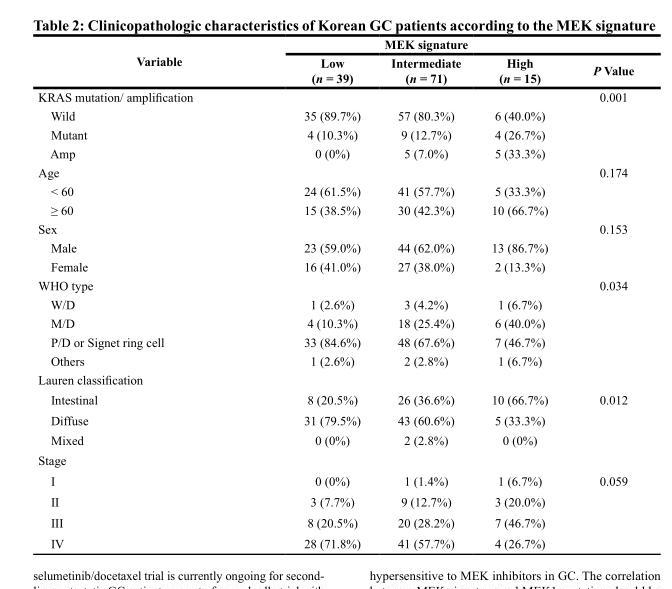table: (37, 36, 633, 550)
table column: (37, 36, 247, 550), (247, 36, 375, 550), (375, 36, 475, 550), (475, 36, 569, 550), (569, 36, 633, 550)
table column header: (37, 36, 633, 87)
table projected row header: (37, 449, 633, 470), (37, 369, 633, 389)
table row: (37, 53, 633, 87), (37, 449, 633, 470), (37, 490, 633, 511), (37, 511, 633, 532), (37, 369, 633, 389), (37, 389, 633, 409), (37, 409, 633, 429), (37, 429, 633, 449), (37, 470, 633, 490), (37, 105, 633, 124), (37, 124, 633, 143), (37, 143, 633, 162), (37, 162, 633, 181), (37, 181, 633, 200), (37, 200, 633, 219), (37, 237, 633, 256), (37, 256, 633, 275), (37, 275, 633, 294), (37, 294, 633, 313), (37, 313, 633, 332), (37, 332, 633, 351), (37, 87, 633, 105), (37, 219, 633, 237), (37, 351, 633, 369), (37, 532, 633, 550), (37, 36, 633, 53)
table spanning cell: (37, 36, 247, 87), (247, 36, 569, 53), (569, 36, 633, 87)
